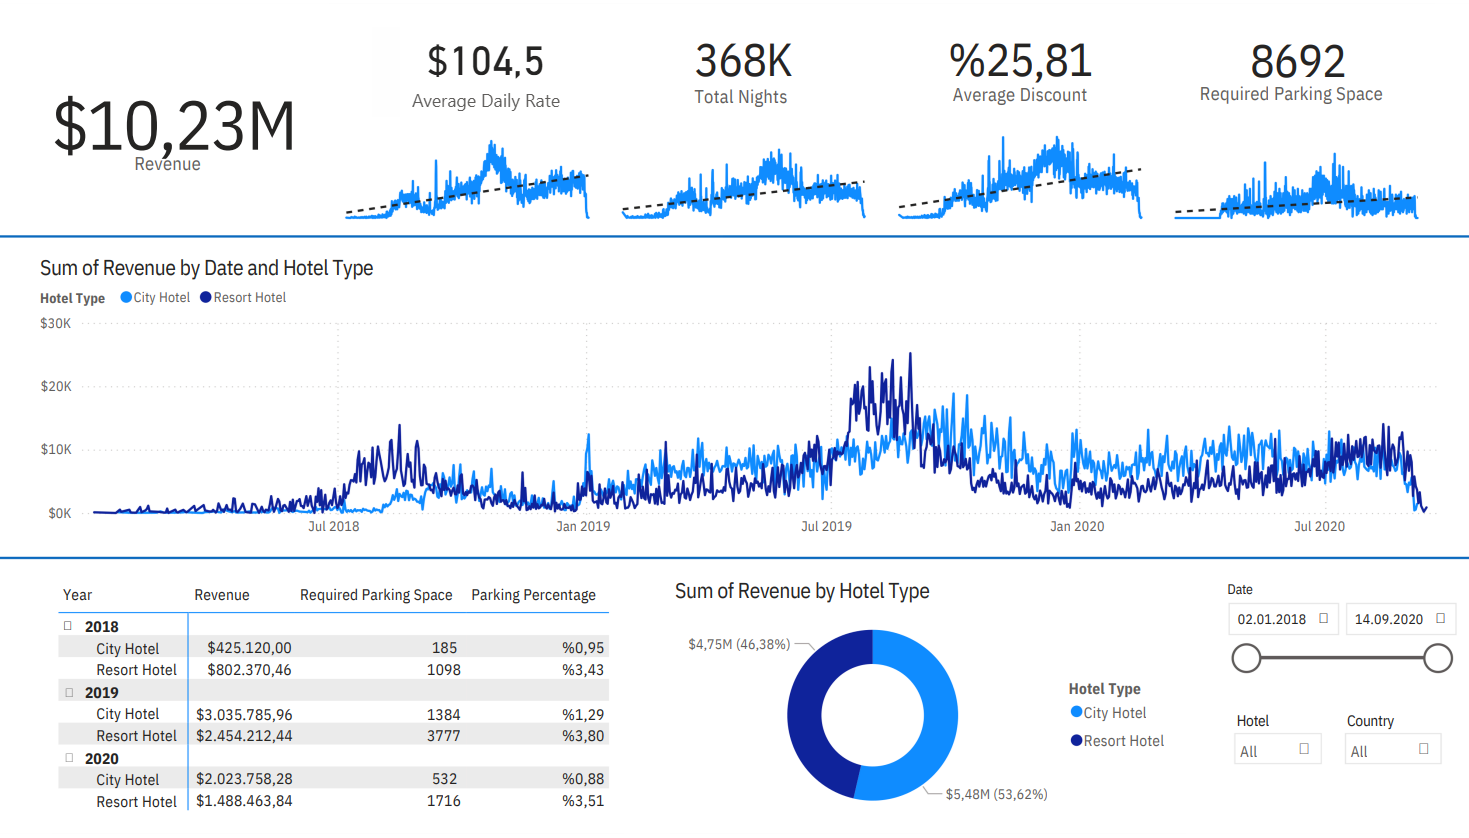

The dashboard page shown, as its layout file describes it:
{"tool":"powerbi","page":{"name":"1. sayfa","canvas":[1280,720],"ordinal":0},"visuals":[{"type":"shape","box":[0,191.7,1280,20.6],"z":0},{"type":"shape","box":[0,471.1,1280,19.5],"z":1000},{"type":"card","fields":{"Values":["Sum(Sorgu1.Revenue)"]},"box":[16.2,35.7,261,123.5],"z":2000},{"type":"card","fields":{"Values":["Avg(Sorgu1.adr)"]},"box":[288,0,240,96],"z":3000},{"type":"card","fields":{"Values":["Sorgu1.Total Nights"]},"box":[528,0,240,96],"z":4000},{"type":"card","fields":{"Values":["Avg(Sorgu1.Discount)"]},"box":[768,0,240,96],"z":5000},{"type":"lineChart","fields":{"Y":["Sum(Sorgu1.Revenue)"],"Category":["Sorgu1.reservation_status_date"],"Series":["Sorgu1.hotel"]},"box":[32,216,1240,256],"z":6000},{"type":"slicer","fields":{"Values":["Sorgu1.country"]},"box":[1160,608,104,64],"z":7000},{"type":"slicer","fields":{"Values":["Sorgu1.hotel"]},"box":[1064,608,96,64],"z":8000},{"type":"lineChart","fields":{"Y":["Sum(Sorgu1.adr)"],"Category":["Sorgu1.reservation_status_date"]},"box":[288,96,240,96],"z":9000},{"type":"lineChart","fields":{"Y":["Sorgu1.Total Nights"],"Category":["Sorgu1.reservation_status_date"]},"box":[528,96,240,96],"z":10000},{"type":"lineChart","fields":{"Y":["Sum(Sorgu1.Discount)"],"Category":["Sorgu1.reservation_status_date"]},"box":[768,96,240,96],"z":11000},{"type":"donutChart","fields":{"Category":["Sorgu1.hotel"],"Y":["Sum(Sorgu1.Revenue)"]},"box":[584,496,448,224],"z":12000},{"type":"pivotTable","fields":{"Rows":["Sorgu1.reservation_status_date.Variation.Tarih Hiyerarşisi.Yıl","Sorgu1.hotel"],"Values":["Sum(Sorgu1.Revenue)","Sum(Sorgu1.required_car_parking_spaces)","Sorgu1.Parking Percentage"]},"box":[48,496,496,224],"z":13000},{"type":"card","fields":{"Values":["Sum(Sorgu1.required_car_parking_spaces)"]},"box":[1008,0,240,96],"z":15000},{"type":"lineChart","fields":{"Category":["Sorgu1.reservation_status_date"],"Y":["Sum(Sorgu1.required_car_parking_spaces)"]},"box":[1008,96,240,96],"z":16000},{"type":"slicer","fields":{"Values":["Sorgu1.reservation_status_date"]},"box":[1056,496,216,96],"z":17000}]}

Visuals, with their boxes in screenshot pixels (x1, y1, x2, y2), scaled from the page's 1280x720 canvas onto the 1469x838 screenshot:
shape: box=[0, 223, 1468, 247]
shape: box=[0, 548, 1468, 571]
card - Sum(Sorgu1.Revenue): box=[19, 42, 318, 185]
card - Avg(Sorgu1.adr): box=[331, 0, 606, 112]
card - Sorgu1.Total Nights: box=[606, 0, 881, 112]
card - Avg(Sorgu1.Discount): box=[881, 0, 1157, 112]
lineChart - Sum(Sorgu1.Revenue) x Sorgu1.reservation_status_date: box=[37, 251, 1460, 549]
slicer - Sorgu1.country: box=[1331, 708, 1451, 782]
slicer - Sorgu1.hotel: box=[1221, 708, 1331, 782]
lineChart - Sum(Sorgu1.adr) x Sorgu1.reservation_status_date: box=[331, 112, 606, 223]
lineChart - Sorgu1.Total Nights x Sorgu1.reservation_status_date: box=[606, 112, 881, 223]
lineChart - Sum(Sorgu1.Discount) x Sorgu1.reservation_status_date: box=[881, 112, 1157, 223]
donutChart - Sorgu1.hotel x Sum(Sorgu1.Revenue): box=[670, 577, 1184, 837]
pivotTable - Sorgu1.reservation_status_date.Variation.Tarih Hiyerarşisi.Yıl x Sorgu1.hotel: box=[55, 577, 624, 837]
card - Sum(Sorgu1.required_car_parking_spaces): box=[1157, 0, 1432, 112]
lineChart - Sorgu1.reservation_status_date x Sum(Sorgu1.required_car_parking_spaces): box=[1157, 112, 1432, 223]
slicer - Sorgu1.reservation_status_date: box=[1212, 577, 1460, 689]
